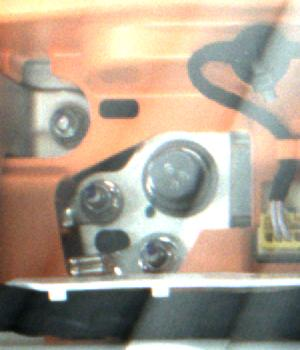nut_b: (138, 136, 220, 222)
screw_s: (77, 181, 113, 223), (138, 239, 176, 275), (46, 106, 81, 140)
